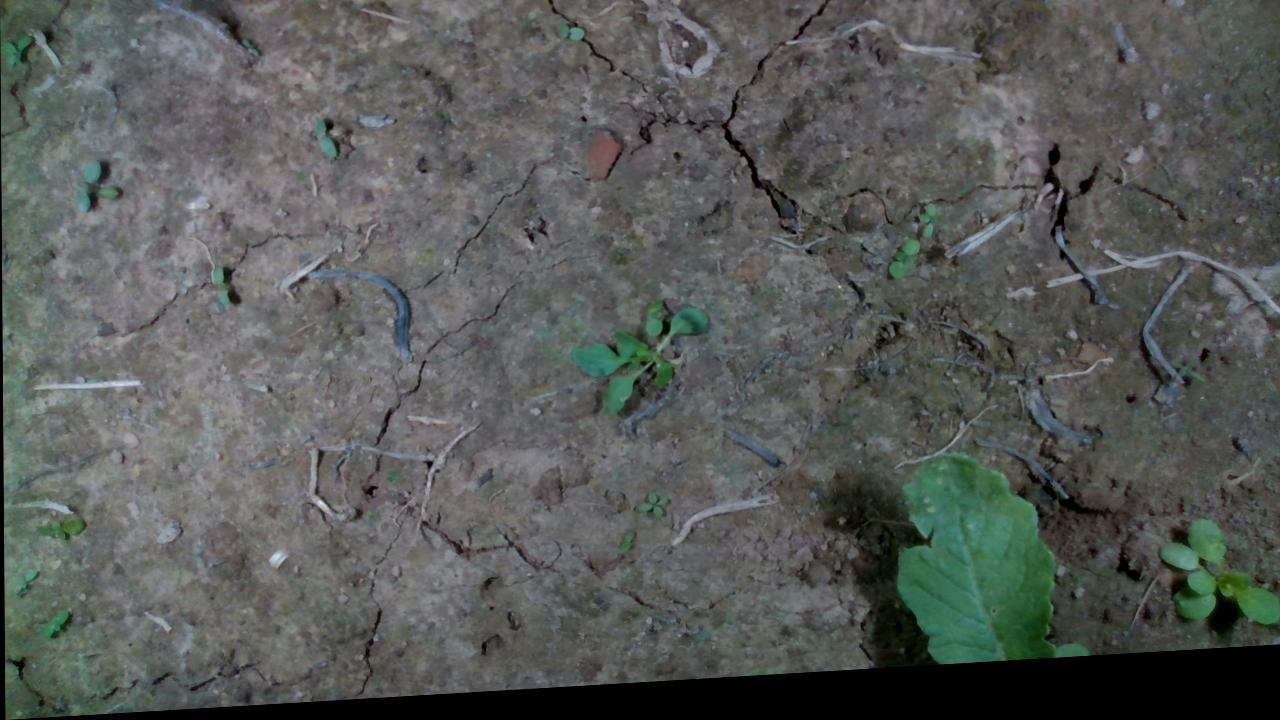weed: (33, 513, 83, 545), (886, 248, 918, 291), (312, 120, 337, 165), (632, 498, 667, 528), (10, 563, 37, 596), (211, 265, 230, 310), (41, 607, 69, 637), (553, 29, 586, 48), (616, 536, 632, 559)
